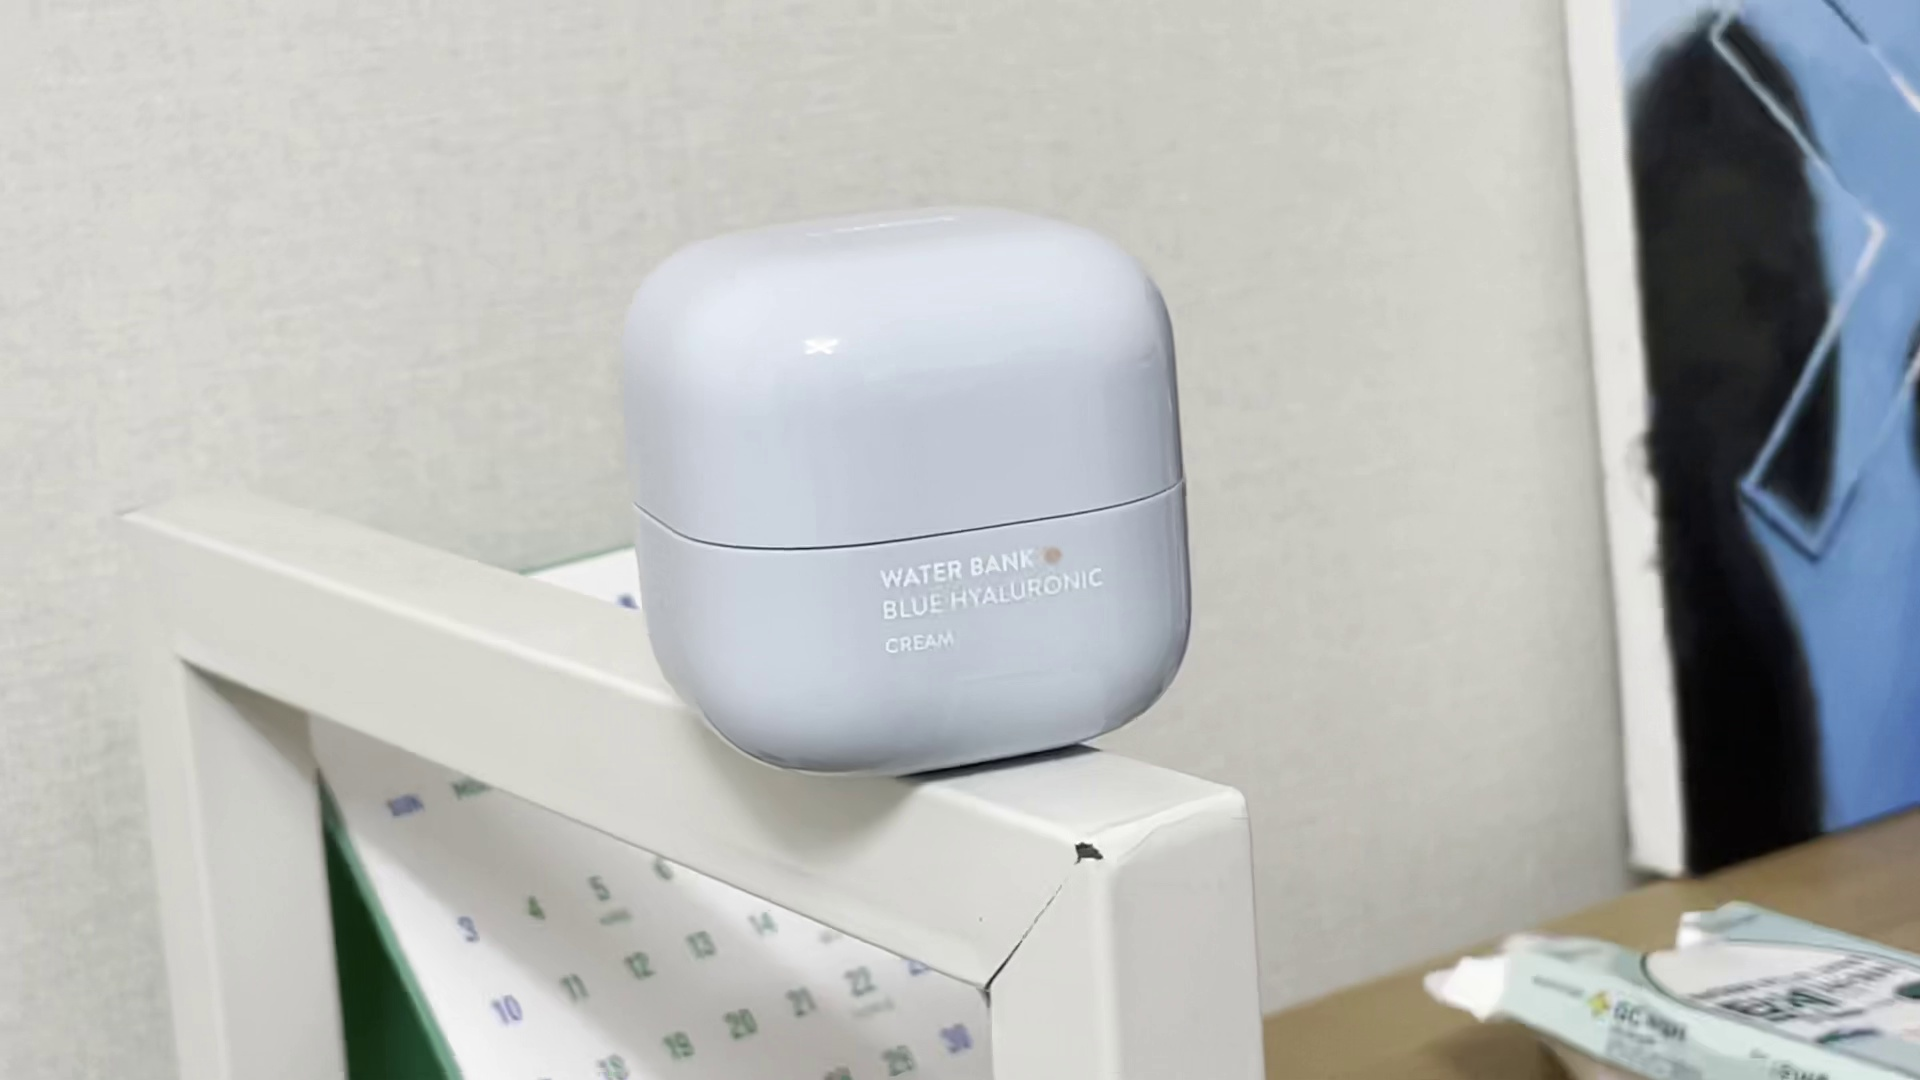cream: (618, 194, 1199, 781)
